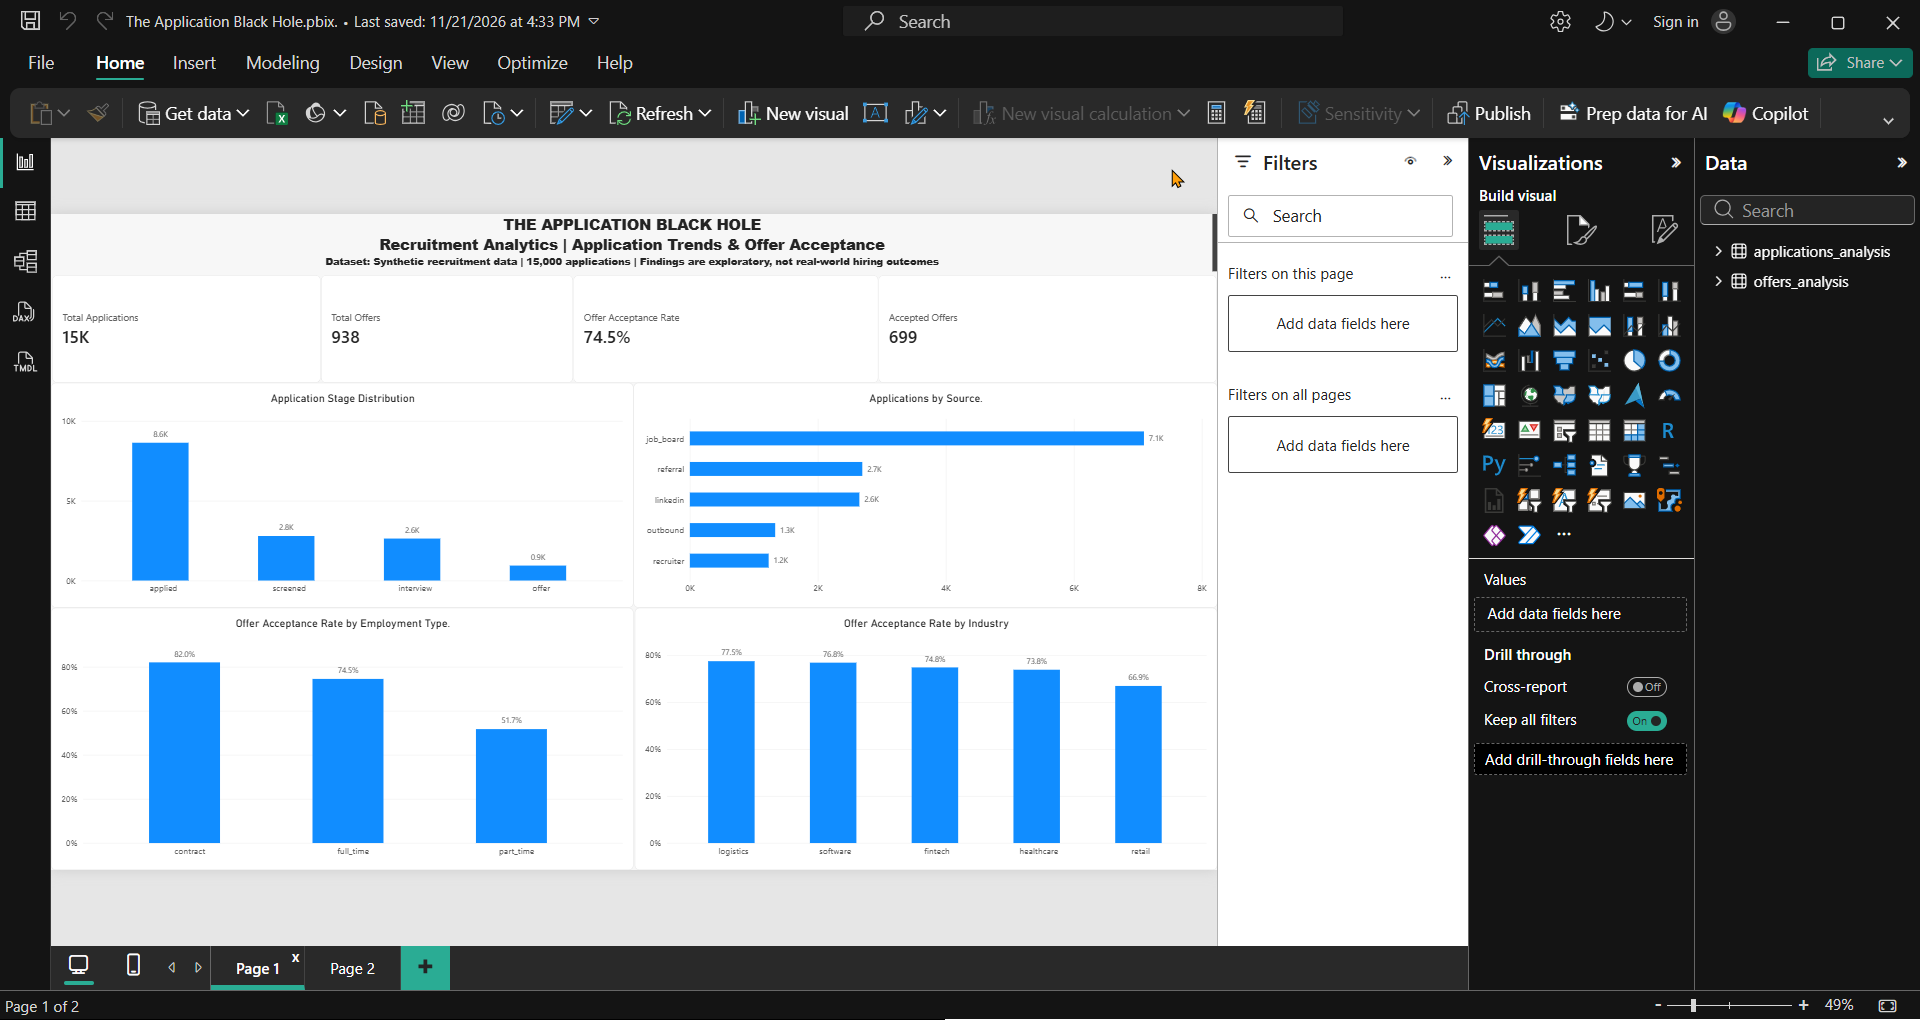

Layout of this report page (visuals, bound fields, positions):
{"tool":"powerbi","page":{"name":"Page 1","canvas":[1920,1080],"ordinal":0},"visuals":[{"type":"cardVisual","fields":{"Data":["applications_analysis.Total Applications"]},"box":[2.1,100.9,442.5,177],"z":0},{"type":"cardVisual","fields":{"Data":["offers_analysis.Total Offers"]},"box":[444.6,100.9,415.8,177],"z":1},{"type":"cardVisual","fields":{"Data":["offers_analysis.Offer Acceptance Rate"]},"box":[860.4,100.9,502.2,177],"z":2},{"type":"cardVisual","fields":{"Data":["offers_analysis.Accepted Offers"]},"box":[1362.6,100.9,557.8,177],"z":3},{"type":"clusteredColumnChart","title":"Application Stage Distribution","fields":{"Category":["applications_analysis.stage"],"Y":["CountNonNull(applications_analysis.application_id)"]},"box":[0,277.9,959.2,370.5],"z":4},{"type":"clusteredBarChart","title":"Applications by Source.","fields":{"Category":["applications_analysis.source"],"Y":["CountNonNull(applications_analysis.application_id)"]},"box":[959.2,277.9,961.2,370.5],"z":5},{"type":"clusteredColumnChart","title":"Offer Acceptance Rate by Employment Type.","fields":{"Category":["offers_analysis.employment_type"],"Y":["offers_analysis.Offer Acceptance Rate"]},"box":[0,648.4,959.2,432.2],"z":6},{"type":"clusteredColumnChart","title":"Offer Acceptance Rate by Industry","fields":{"Category":["offers_analysis.industry"],"Y":["offers_analysis.Offer Acceptance Rate"]},"box":[961.2,648.4,959.2,432.2],"z":7},{"type":"textbox","box":[2.1,0,1918.4,100.9],"z":10}]}

Visuals, with their boxes on the page's 1920x1080 design canvas (x1, y1, x2, y2). These are canvas units, not pixel positions in the 1920x1020 screenshot, which may show the page scaled, cropped or inside an application window:
cardVisual - applications_analysis.Total Applications: bbox(2, 101, 445, 278)
cardVisual - offers_analysis.Total Offers: bbox(445, 101, 860, 278)
cardVisual - offers_analysis.Offer Acceptance Rate: bbox(860, 101, 1363, 278)
cardVisual - offers_analysis.Accepted Offers: bbox(1363, 101, 1920, 278)
"Application Stage Distribution" clusteredColumnChart: bbox(0, 278, 959, 648)
"Applications by Source." clusteredBarChart: bbox(959, 278, 1920, 648)
"Offer Acceptance Rate by Employment Type." clusteredColumnChart: bbox(0, 648, 959, 1081)
"Offer Acceptance Rate by Industry" clusteredColumnChart: bbox(961, 648, 1920, 1081)
textbox: bbox(2, 0, 1920, 101)
